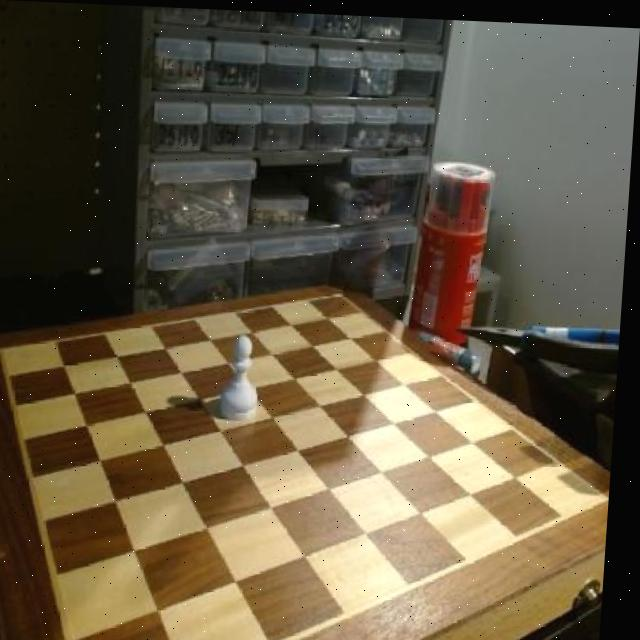white-knight: (215, 328, 271, 420)
